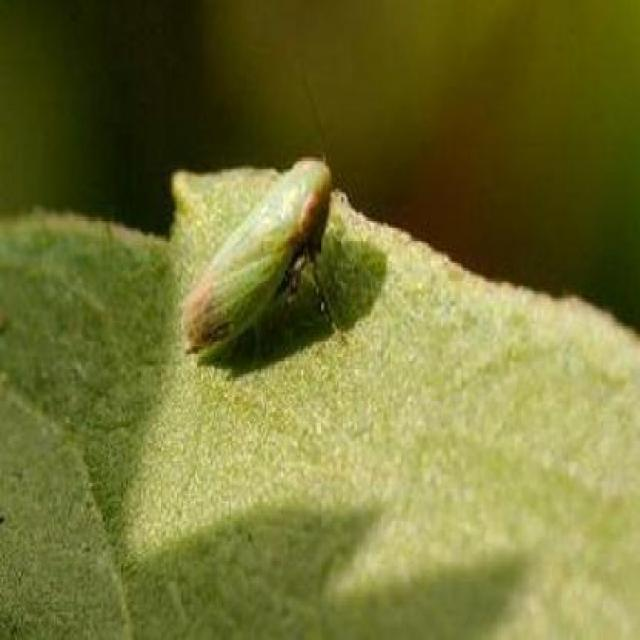green-leafhopper: (183, 158, 346, 350)
